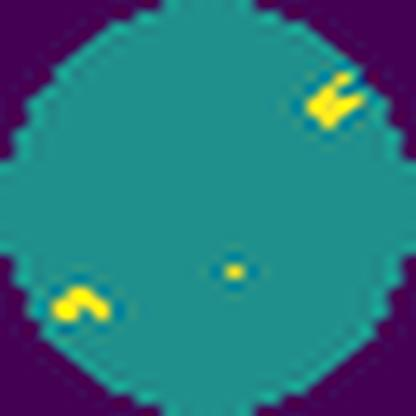Loc: (46, 274, 122, 335), (305, 70, 365, 134)
